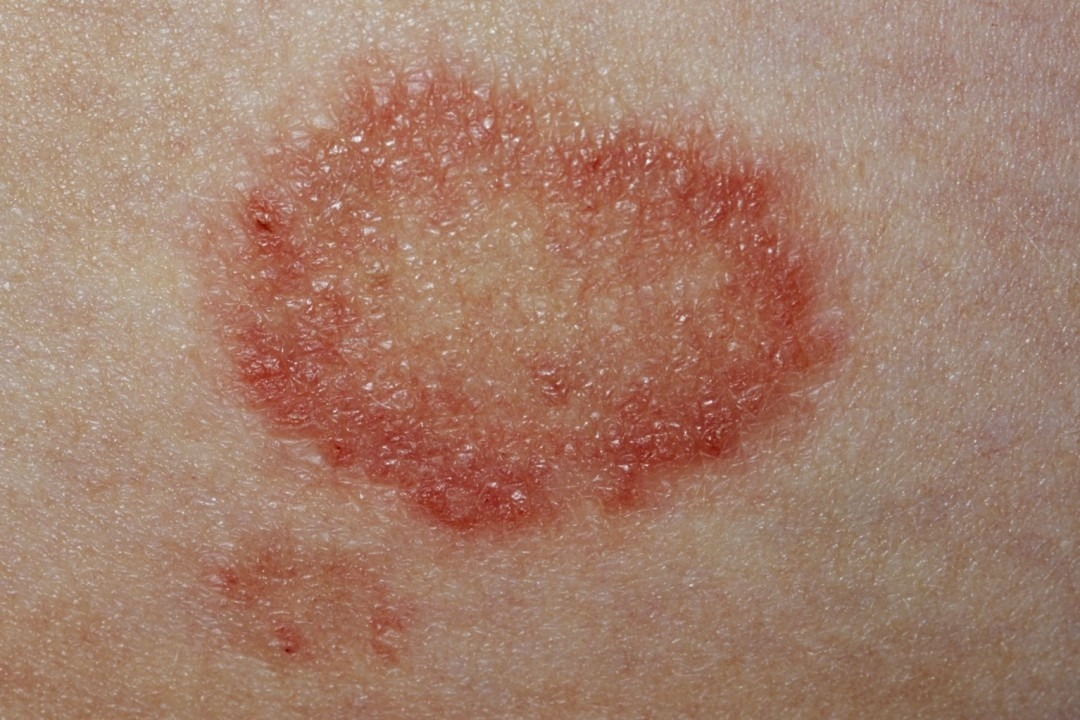Ringworm: (218, 52, 856, 544), (196, 518, 418, 706)
